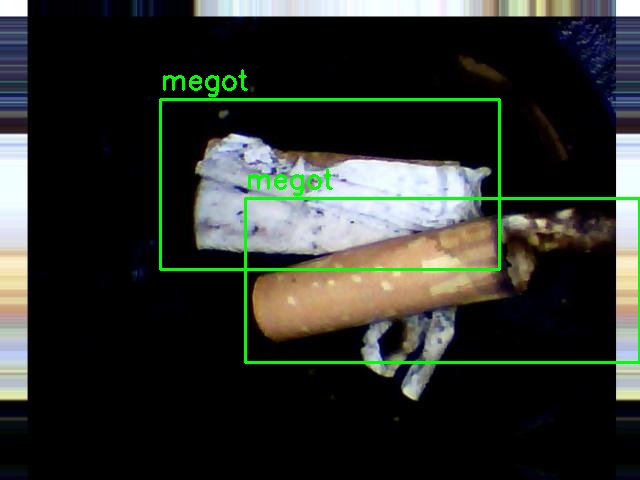megot: (245, 198, 639, 362), (160, 99, 499, 269)
